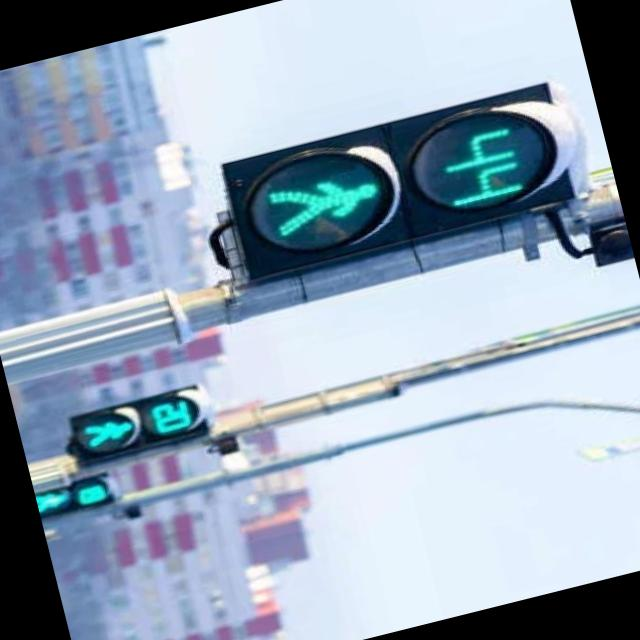green_light: (247, 102, 546, 258), (70, 389, 198, 461), (34, 478, 108, 518)
